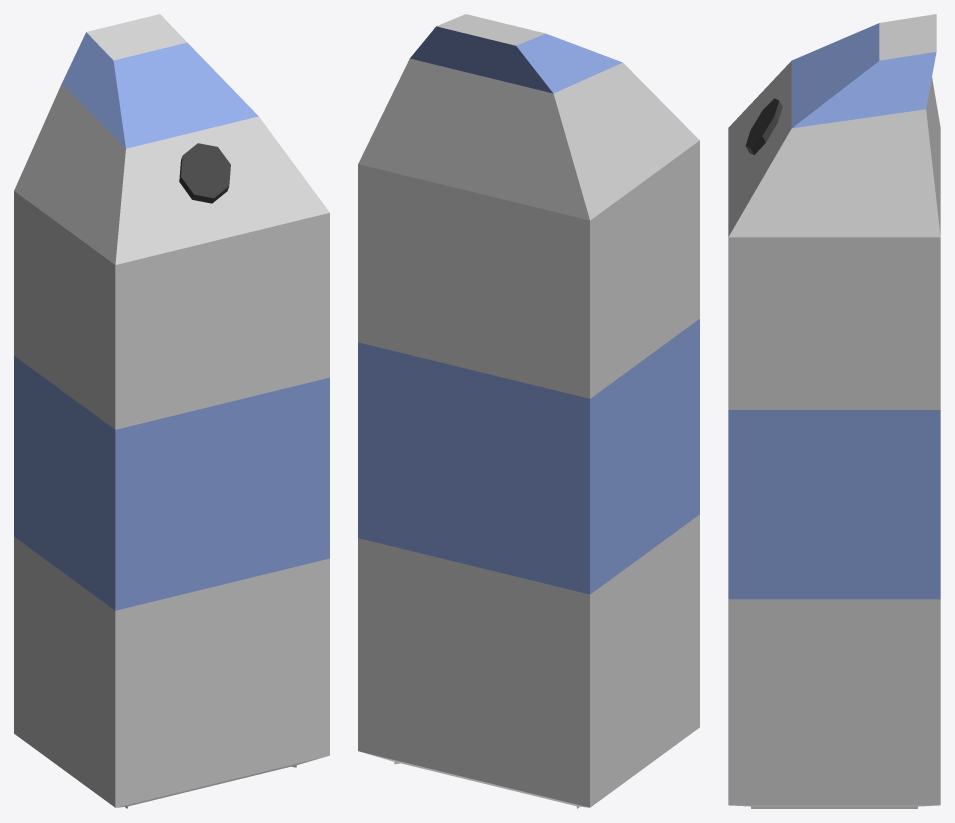
File: BotellaLeche1.glb
3 views of the same model, side by side, from view 1: azimuth 30°, elevation 25°; view 2: azimuth 150°, elevation 25°; view 3: azimuth 270°, elevation 25° (orthographic). The views are drawn at different scales.
Visible parts, largest first — view 1: LECHE; view 2: LECHE; view 3: LECHE.
Boxes of the visible parts, box(x1,y1,x2,y2) form: LECHE: box(14, 14, 329, 808); LECHE: box(358, 14, 699, 808); LECHE: box(728, 14, 940, 808).
Size of the model in its own units: 0.4757 by 1.48 by 0.3896.
